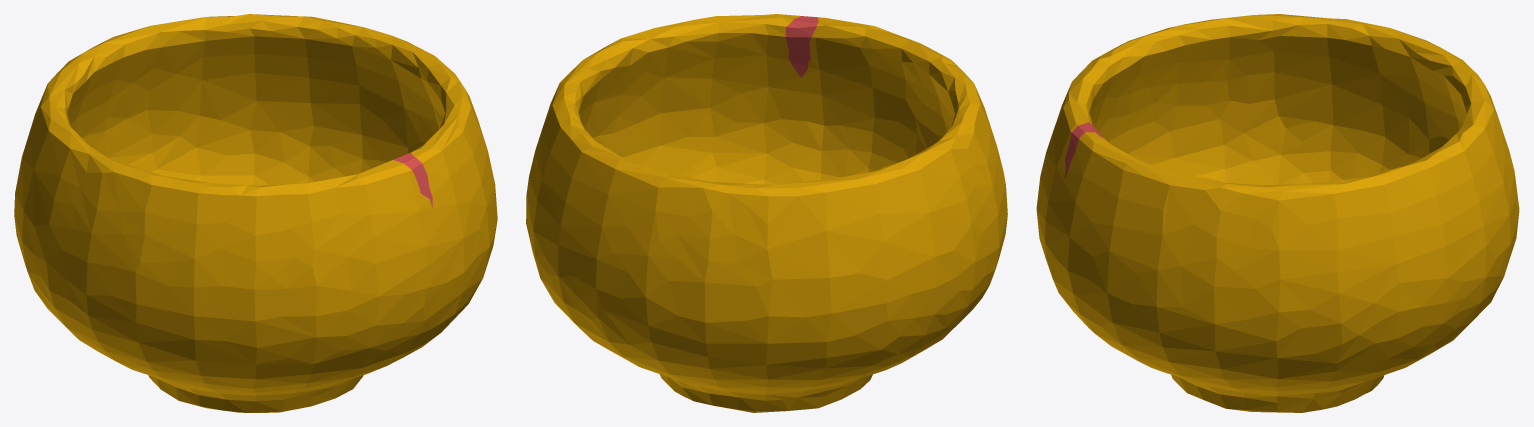
File: fractured_58_2pcs.glb
3 views of the same model, side by side, from view 1: azimuth 30°, elevation 25°; view 2: azimuth 150°, elevation 25°; view 3: azimuth 270°, elevation 25° (orthographic).
Parts seen in each view (by area): view 1: piece_0.obj, piece_1.obj; view 2: piece_0.obj, piece_1.obj; view 3: piece_0.obj, piece_1.obj.
Boxes of the visible parts, x1,y1,x2,y2 form: piece_0.obj: [14, 14, 497, 412]; piece_1.obj: [393, 152, 432, 207]; piece_0.obj: [526, 14, 1007, 412]; piece_1.obj: [785, 16, 818, 77]; piece_0.obj: [1036, 14, 1519, 412]; piece_1.obj: [1063, 122, 1104, 179].
Bounding box in the file's own units: 0.9997 × 0.6135 × 1.
